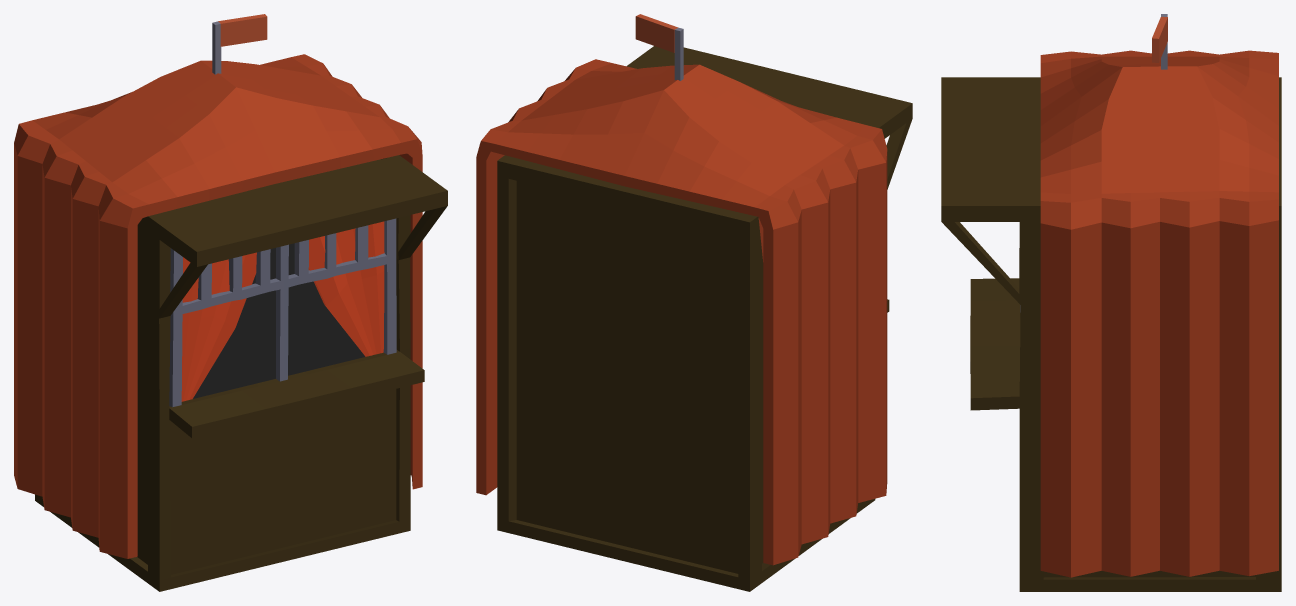
The model's file is ticket booth.fbx.
3 views of the same model, side by side, from view 1: azimuth 30°, elevation 25°; view 2: azimuth 150°, elevation 25°; view 3: azimuth 270°, elevation 25° (orthographic). The views are drawn at different scales.
Parts seen in each view (by area): view 1: verhoi 02, lippukoju_placeholder.001, verhoja 01, kalterit, Plane, lippu; view 2: lippukoju_placeholder.001, verhoi 02, lippu; view 3: verhoi 02, lippukoju_placeholder.001, lippu.
Part boxes in pixels (box(x1,y1,x2,y2)): verhoi 02: box(14, 54, 422, 558); lippukoju_placeholder.001: box(35, 155, 447, 591); verhoja 01: box(181, 221, 384, 401); kalterit: box(169, 218, 396, 407); Plane: box(193, 243, 365, 398); lippu: box(218, 14, 267, 46); lippukoju_placeholder.001: box(497, 46, 912, 591); verhoi 02: box(476, 59, 887, 565); lippu: box(635, 14, 678, 52); verhoi 02: box(1040, 50, 1278, 577); lippukoju_placeholder.001: box(941, 77, 1281, 591); lippu: box(1152, 16, 1167, 62).
Size of the model in its own units: 328 by 477 by 285.
